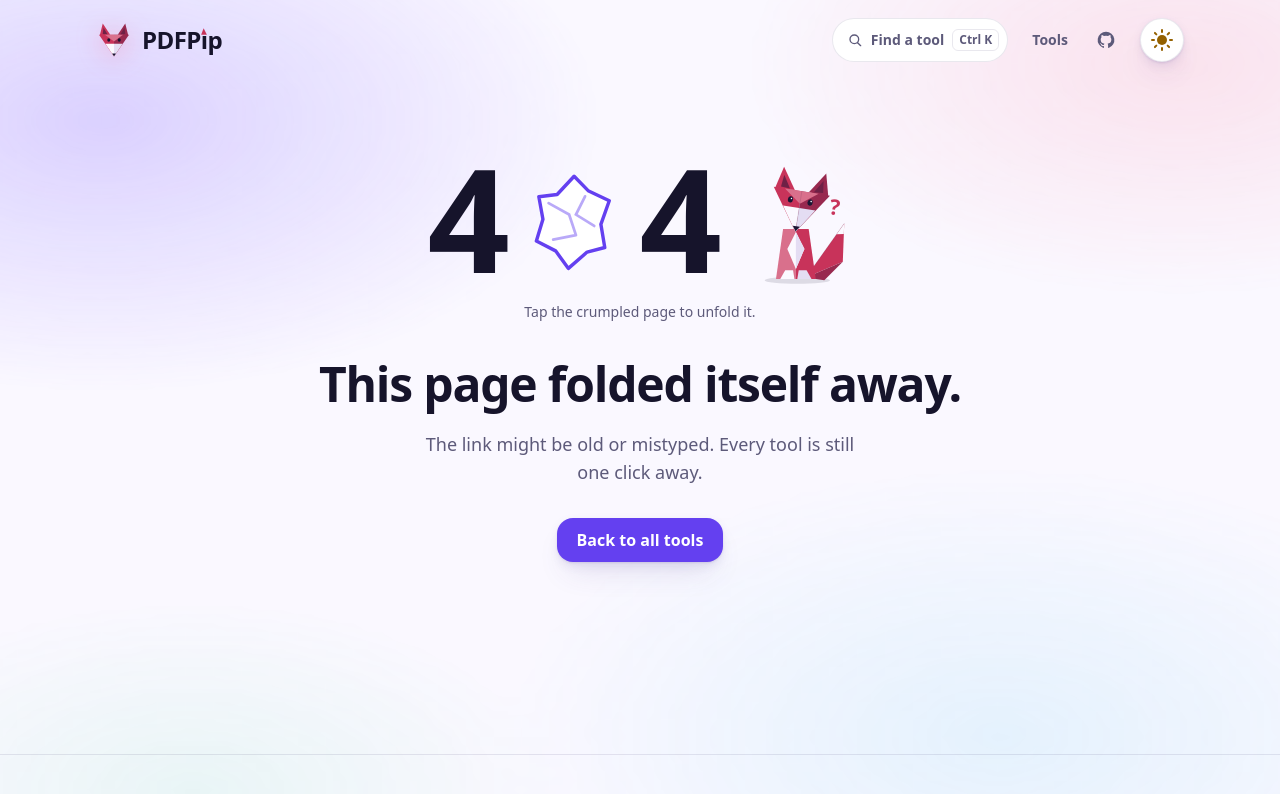
not found route › unfolds the crumpled page and folds it back
Later steps or results of the test are not shown.
Click the button named "Unfold the crumpled page": (571, 222) top-left (503, 154), bottom-right (640, 290)
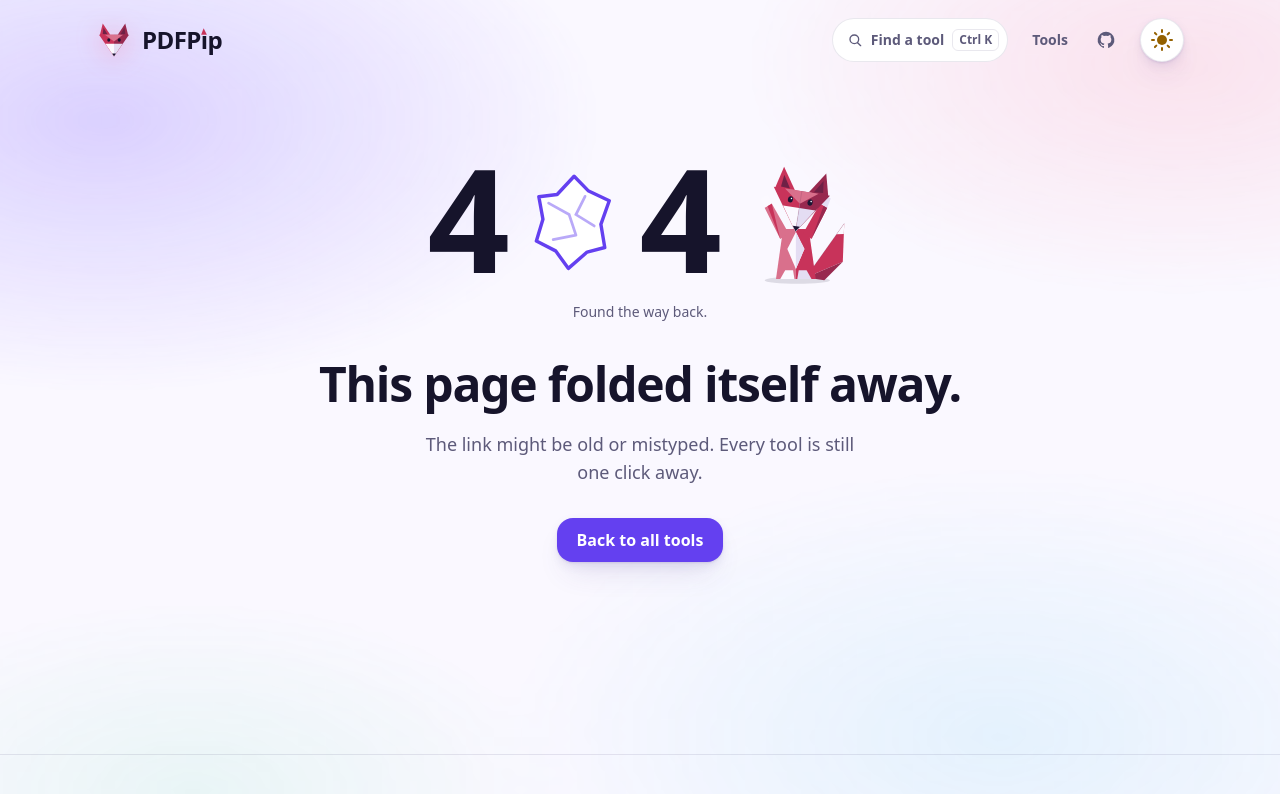
Expected: the text "Found the way back." is shown, top-left (573, 302), bottom-right (707, 322)
